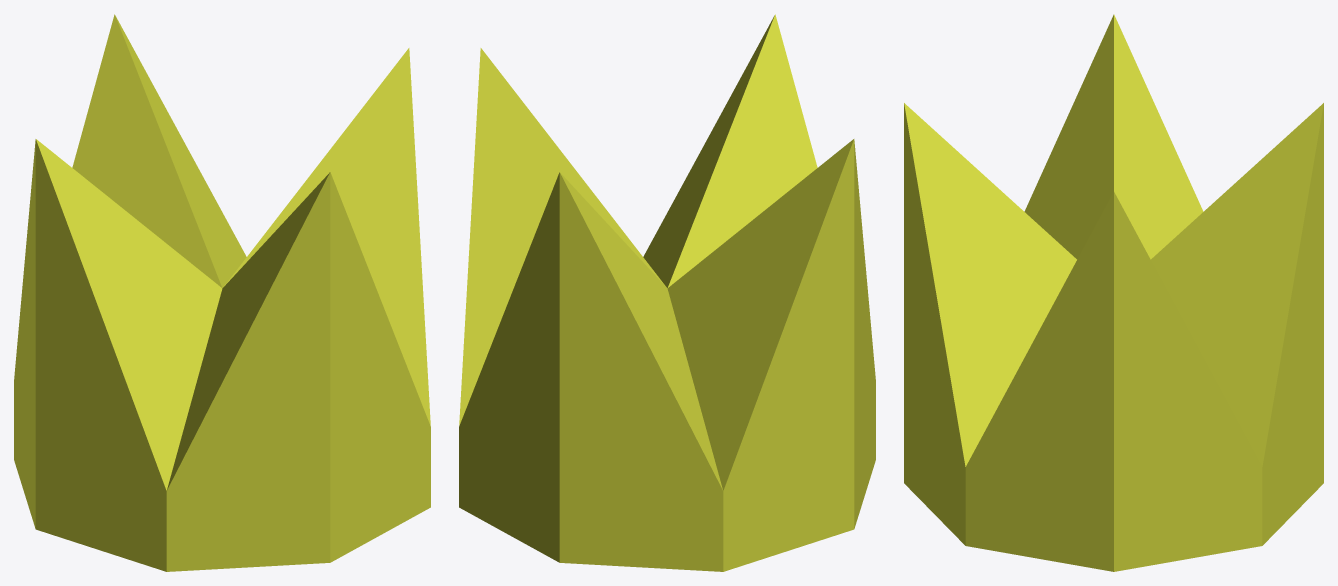
The model's file is MoundCrown.fbx.
3 views of the same model, side by side, from view 1: azimuth 30°, elevation 25°; view 2: azimuth 150°, elevation 25°; view 3: azimuth 270°, elevation 25° (orthographic). The views are drawn at different scales.
Visible parts, largest first — view 1: Cylinder; view 2: Cylinder; view 3: Cylinder.
Boxes of the visible parts, x1,y1,x2,y2 form: Cylinder: (14,14,430,571); Cylinder: (459,14,875,571); Cylinder: (904,14,1323,571).
Bounding box in the file's own units: 200 × 200 × 200.
